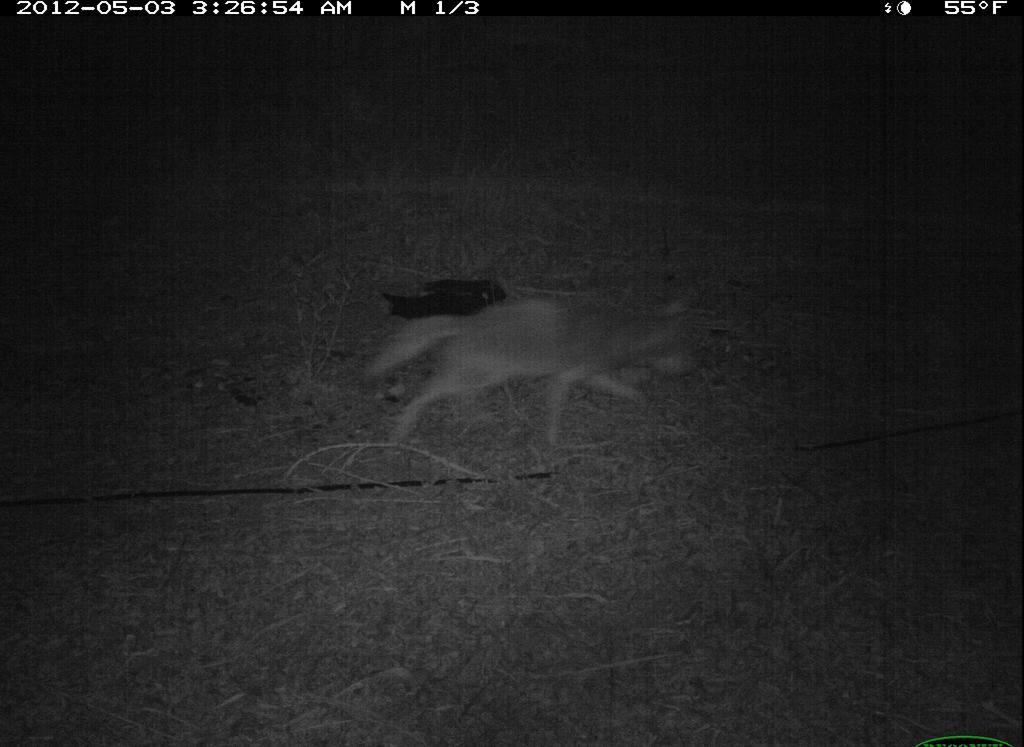coyote: (358, 277, 721, 469)
